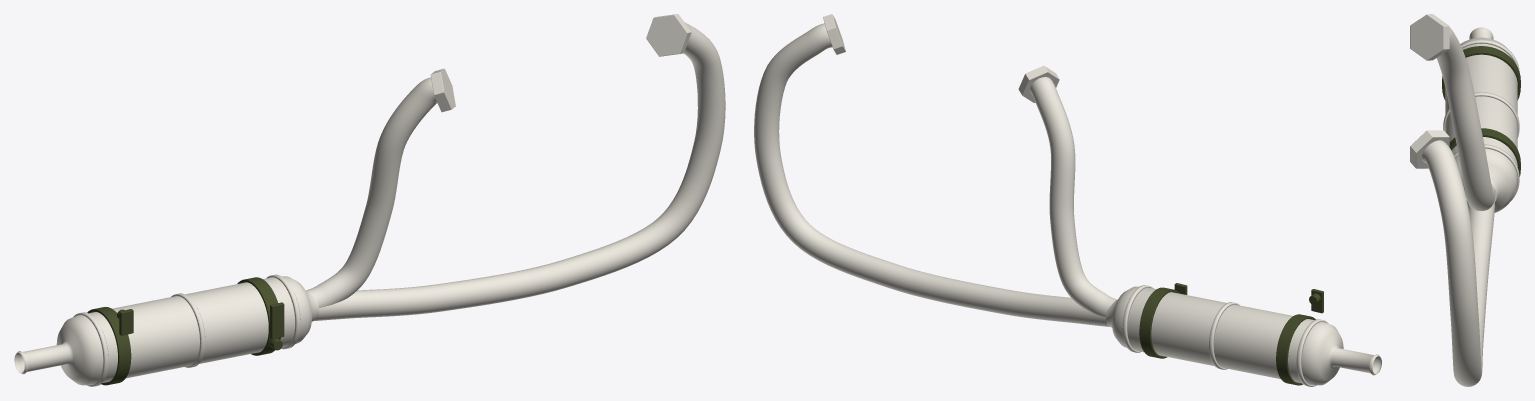
File: bike_vintage_vtwin__exhaust.glb
3 renders of one model, left to right at view 1: azimuth 30°, elevation 25°; view 2: azimuth 150°, elevation 25°; view 3: azimuth 270°, elevation 25°, orthographic. The views are drawn at different scales.
Visible parts, largest first — view 1: powertrain__exhaust__pipes, powertrain__exhaust__silencer, powertrain__exhaust__hangers, powertrain__exhaust__port_nuts; view 2: powertrain__exhaust__pipes, powertrain__exhaust__silencer, powertrain__exhaust__hangers, powertrain__exhaust__port_nuts; view 3: powertrain__exhaust__pipes, powertrain__exhaust__silencer, powertrain__exhaust__port_nuts, powertrain__exhaust__hangers.
Boxes of the visible parts, left/top/right/bottom form: powertrain__exhaust__pipes: left=306, top=22, right=725, bottom=320; powertrain__exhaust__silencer: left=14, top=274, right=318, bottom=386; powertrain__exhaust__hangers: left=87, top=277, right=284, bottom=385; powertrain__exhaust__port_nuts: left=430, top=14, right=691, bottom=112; powertrain__exhaust__pipes: left=754, top=23, right=1117, bottom=326; powertrain__exhaust__silencer: left=1106, top=285, right=1381, bottom=386; powertrain__exhaust__hangers: left=1139, top=283, right=1323, bottom=385; powertrain__exhaust__port_nuts: left=823, top=14, right=1059, bottom=102; powertrain__exhaust__pipes: left=1421, top=27, right=1495, bottom=386; powertrain__exhaust__silencer: left=1443, top=27, right=1519, bottom=213; powertrain__exhaust__port_nuts: left=1410, top=14, right=1449, bottom=168; powertrain__exhaust__hangers: left=1442, top=46, right=1520, bottom=176.
Size of the model in its own units: 101 by 37.11 by 13.77.
